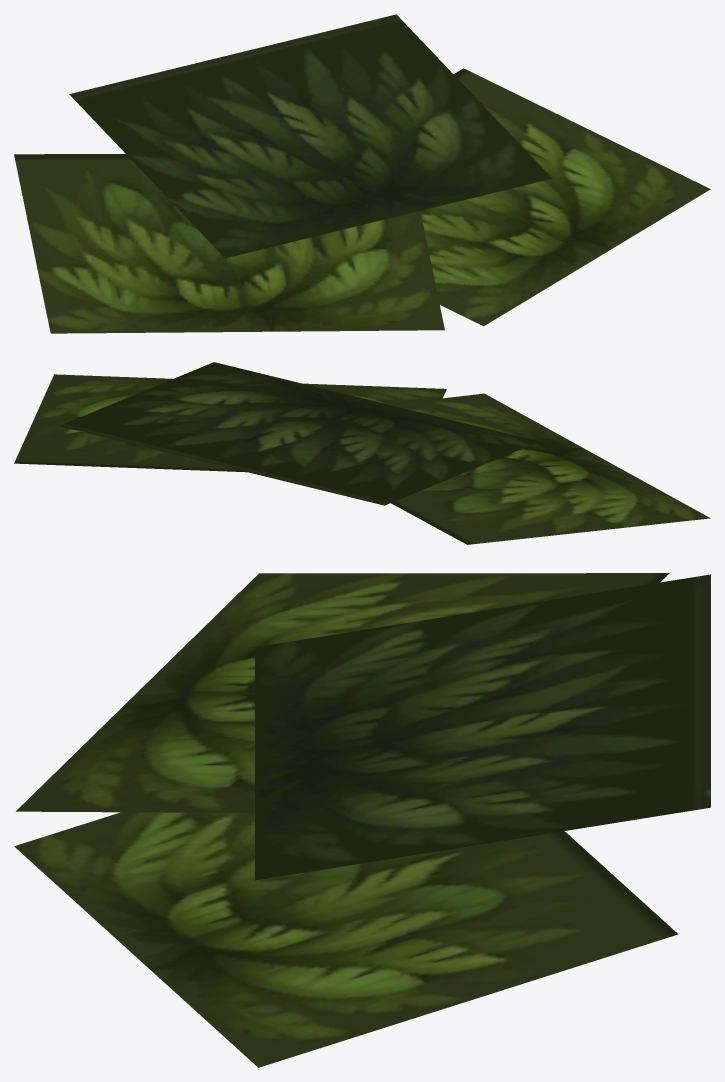
The model's file is dec_Border_Bush_12_32386.glb.
3 renders of one model, top to bottom at view 1: azimuth 30°, elevation 25°; view 2: azimuth 150°, elevation 25°; view 3: azimuth 270°, elevation 25°, orthographic. The views are drawn at different scales.
Visible parts, largest first — view 1: Border_Bush_12_mesh; view 2: Border_Bush_12_mesh; view 3: Border_Bush_12_mesh.
Part boxes in pixels (bbox=[...]): Border_Bush_12_mesh: bbox=[14, 14, 710, 333]; Border_Bush_12_mesh: bbox=[14, 362, 710, 544]; Border_Bush_12_mesh: bbox=[14, 573, 710, 1067].
Bounding box in the file's own units: 1.44 × 0.2096 × 0.9034.
Materials: 1 (1 with a texture image).
